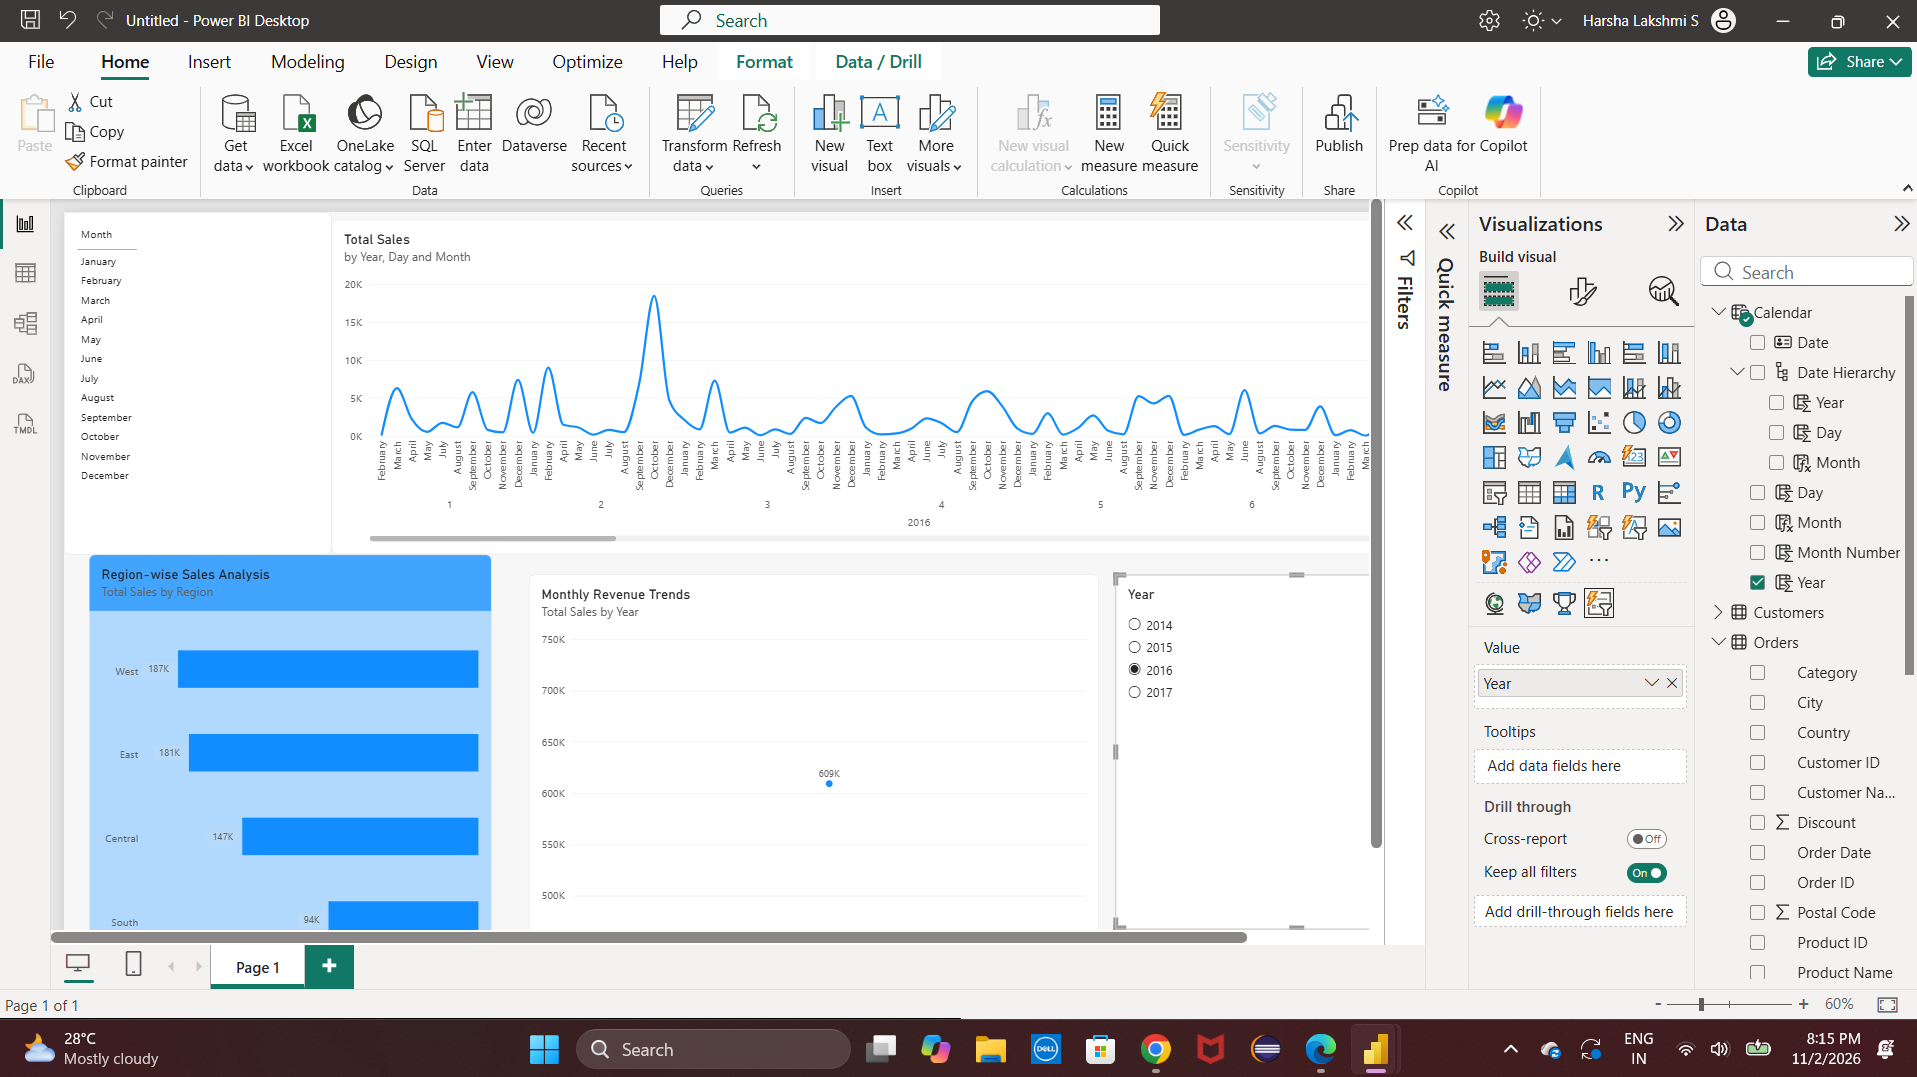

The page's visual inventory and layout, read from the dashboard file:
{"tool":"powerbi","page":{"name":"Page 1","canvas":[1920,1080],"ordinal":0},"visuals":[{"type":"tableEx","fields":{"Values":["Calendar.Month"]},"box":[0,0,356.7,456.7],"z":0},{"type":"clusteredBarChart","title":"Region-wise Sales Analysis","fields":{"Category":["Regions.Region"],"Y":["Orders.Measure"]},"box":[33.3,456.7,536.7,580],"z":1},{"type":"lineChart","fields":{"Category":["Calendar.Date Hierarchy.Year","Calendar.Date Hierarchy.Day","Calendar.Date Hierarchy.Month"],"Y":["Orders.Measure"]},"box":[356.7,10,1533.3,446.7],"z":2},{"type":"lineChart","title":"Monthly Revenue Trends","fields":{"Category":["Calendar.Date Hierarchy.Year","Calendar.Date Hierarchy.Day","Calendar.Date Hierarchy.Month"],"Y":["Orders.Total Sales"]},"box":[620,483.3,760,553.3],"z":3},{"type":"listSlicer","fields":{"Values":["Calendar.Year"]},"box":[1391.7,483.3,485,473.3],"z":4}]}

Visuals, with their boxes in screenshot pixels (x1, y1, x2, y2):
tableEx - Calendar.Month: (55, 30, 394, 464)
"Region-wise Sales Analysis" clusteredBarChart: (87, 464, 596, 1015)
lineChart - Calendar.Date Hierarchy.Year x Calendar.Date Hierarchy.Day: (394, 39, 1850, 464)
"Monthly Revenue Trends" lineChart: (644, 489, 1366, 1014)
listSlicer - Calendar.Year: (1377, 489, 1837, 938)
